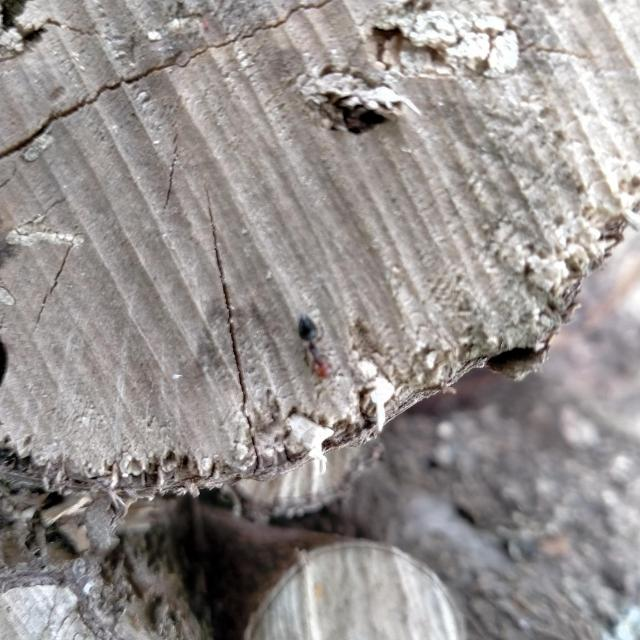Crematogaster: (288, 312, 336, 386)
